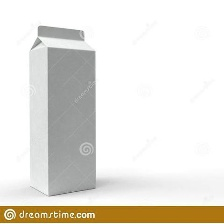carton: (22, 20, 103, 199)
